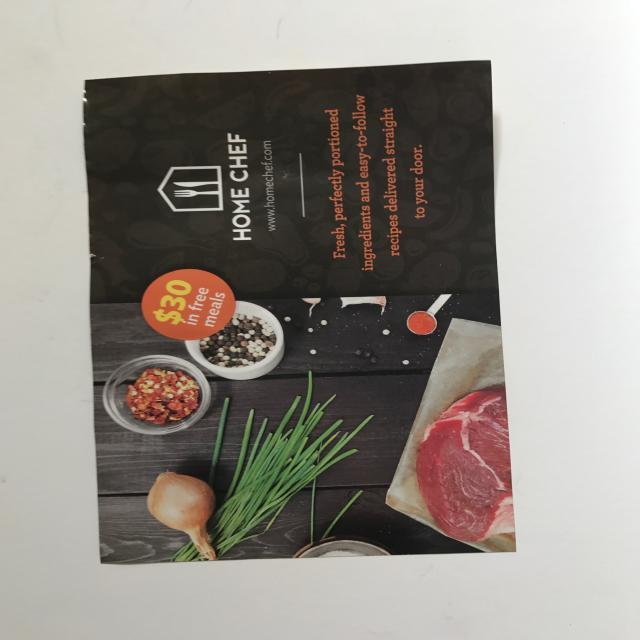paper: (73, 54, 536, 571)
